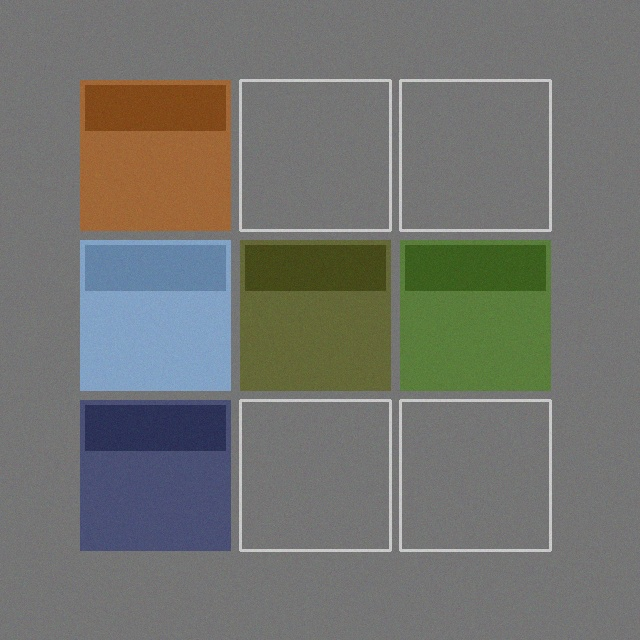space-empty: (240, 80, 390, 230), (400, 80, 550, 230), (240, 400, 390, 550), (400, 400, 550, 550)
space-occupied: (80, 80, 230, 230), (80, 240, 230, 390), (240, 240, 390, 390), (400, 240, 550, 390), (80, 400, 230, 550)
